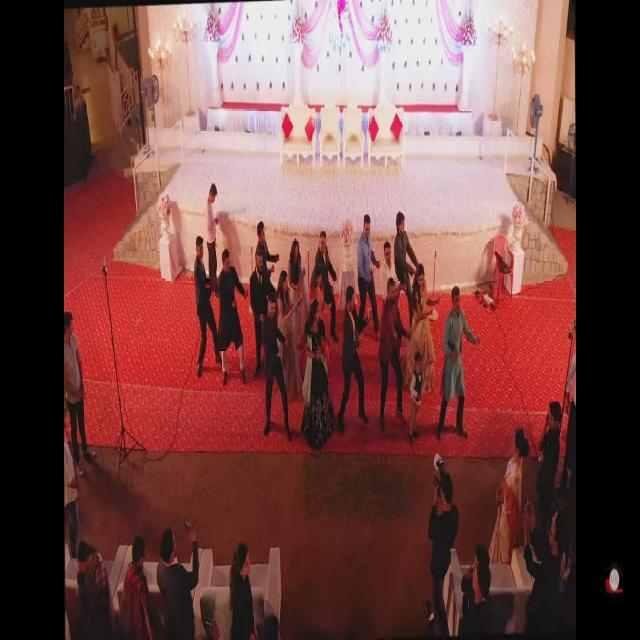humans: (439, 281, 481, 441), (490, 424, 530, 572), (64, 306, 98, 478), (301, 295, 336, 450), (215, 244, 251, 392), (524, 502, 562, 640), (155, 515, 196, 640), (378, 274, 410, 434), (430, 472, 460, 640), (262, 289, 294, 444), (338, 286, 372, 428), (411, 262, 442, 402), (73, 533, 113, 640), (276, 269, 307, 402), (118, 530, 154, 640), (193, 232, 219, 384), (356, 209, 382, 342), (314, 226, 343, 345), (225, 534, 257, 640), (250, 248, 274, 376), (537, 398, 562, 510), (393, 202, 417, 316), (288, 234, 311, 348), (202, 181, 222, 302), (308, 262, 334, 337), (467, 560, 490, 640), (255, 218, 278, 294), (377, 241, 403, 307), (409, 347, 424, 449)
